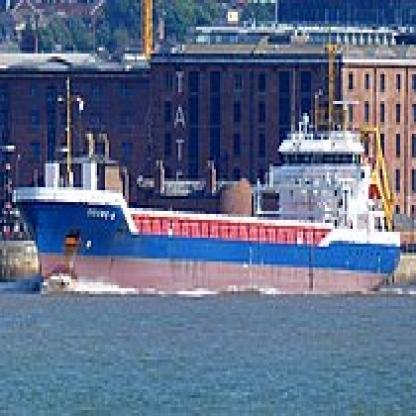Tanker: (10, 113, 408, 306)
